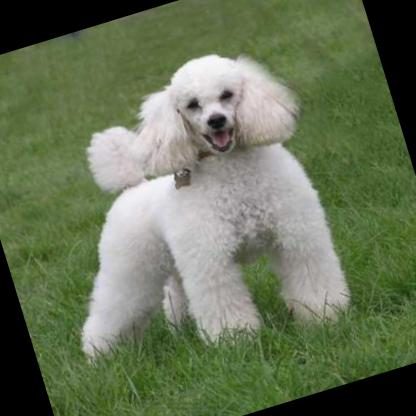miniature_poodle: (6, 28, 368, 398)
